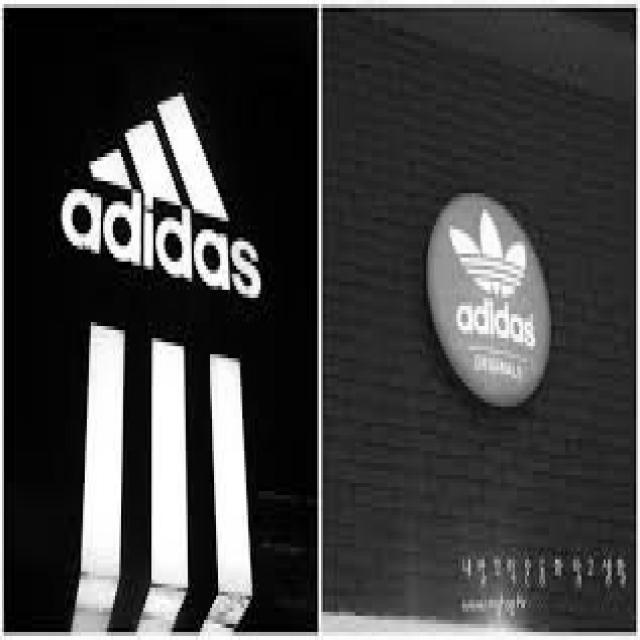Adidas: (446, 189, 531, 306)
